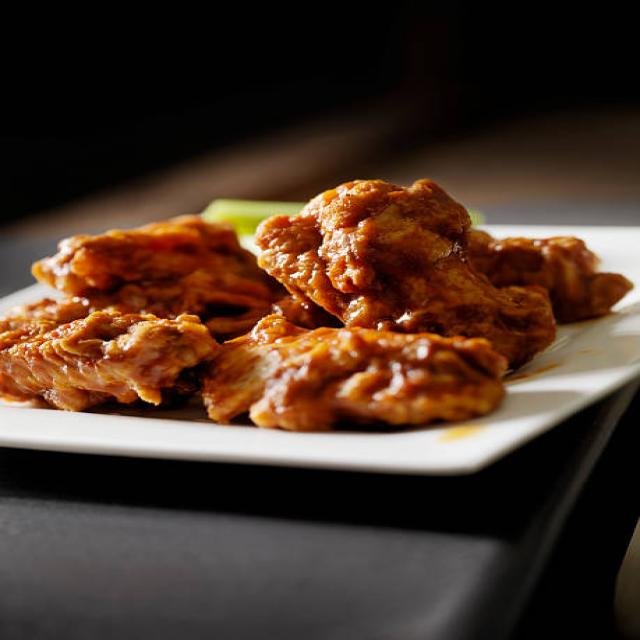Frango: (0, 171, 634, 433)
